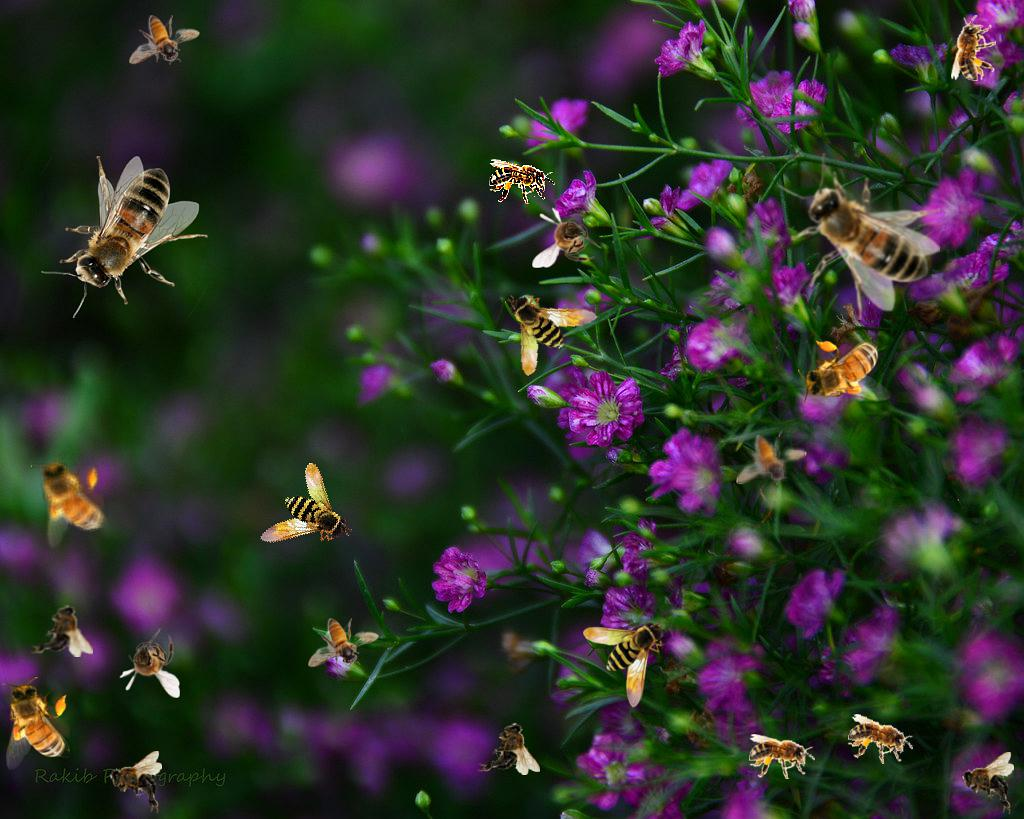Bee: (41, 156, 208, 318), (778, 153, 940, 320), (240, 458, 354, 568), (506, 284, 604, 378), (30, 448, 112, 551), (583, 620, 665, 708), (798, 337, 891, 405), (2, 677, 70, 770), (532, 207, 602, 268), (119, 628, 180, 698), (844, 713, 918, 768), (129, 15, 200, 65), (308, 618, 379, 668), (736, 435, 807, 485), (961, 752, 1014, 814), (31, 604, 93, 657), (109, 751, 162, 813), (478, 722, 540, 775), (749, 734, 815, 779), (951, 15, 996, 81), (489, 159, 555, 204)
